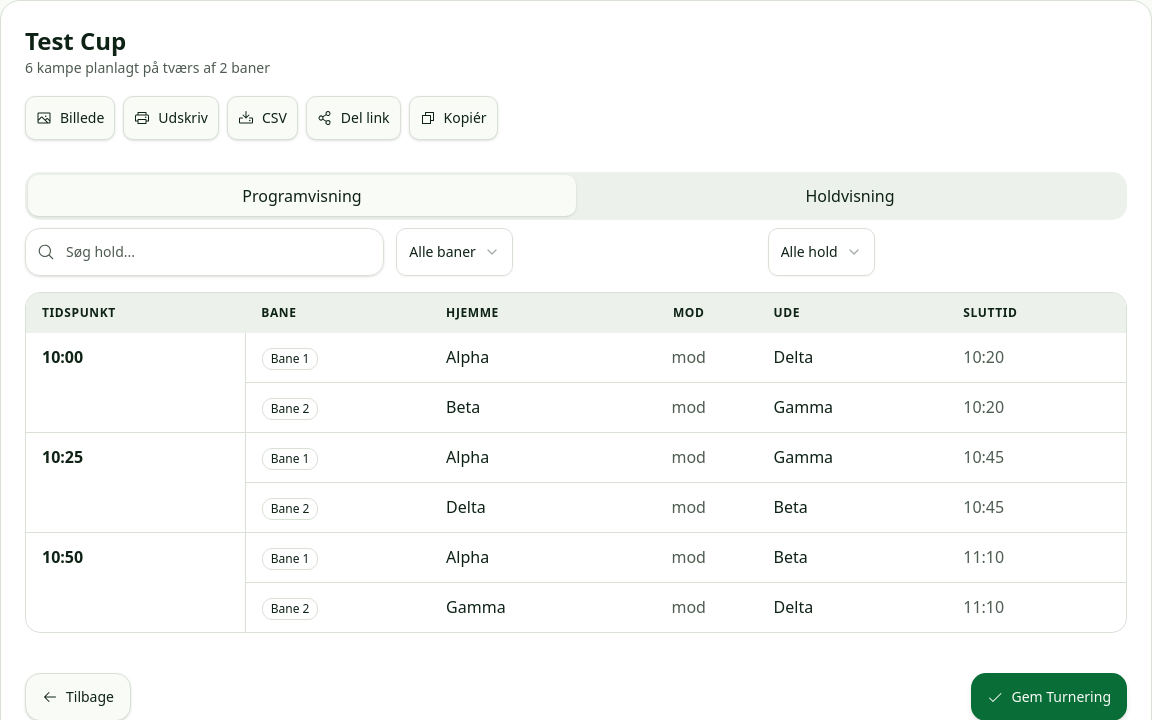
it: Step4Schedule › copies the text schedule to the clipboard via the Kopiér button
The width and height of the screenshot is (1152, 720).
Click the button "Kopiér". click: (453, 118)
box: [409,96,498,140]
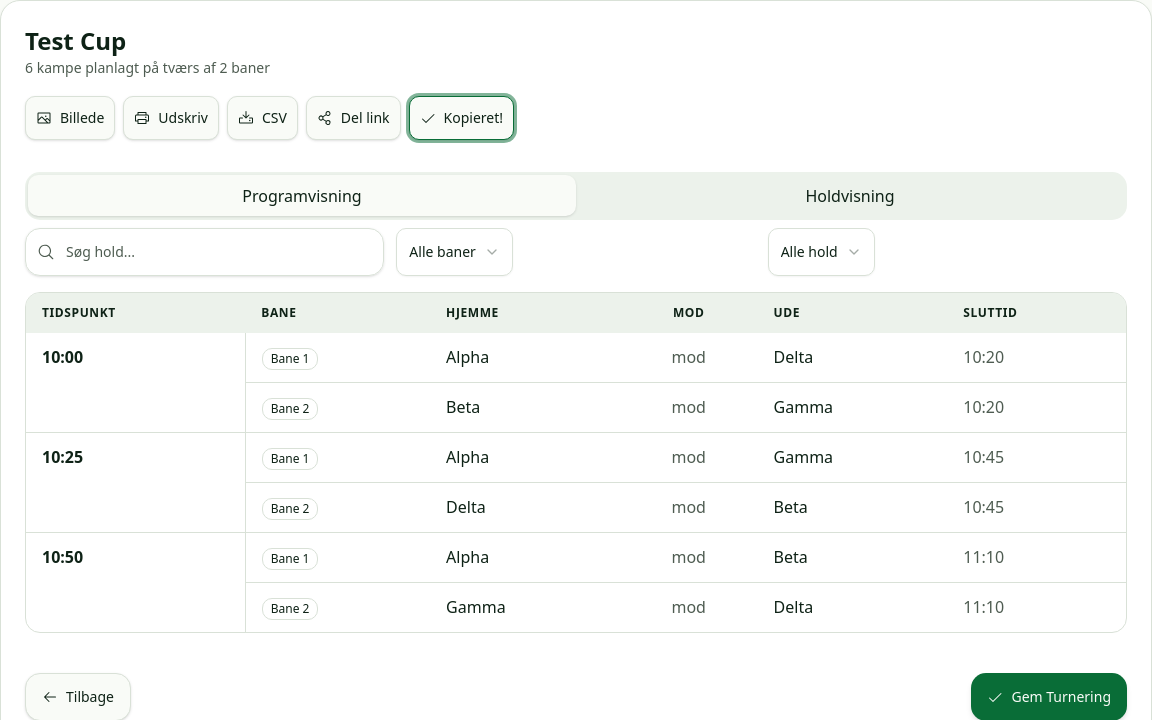
expect the button "Kopieret!" is shown: met, box [409,96,514,140]
